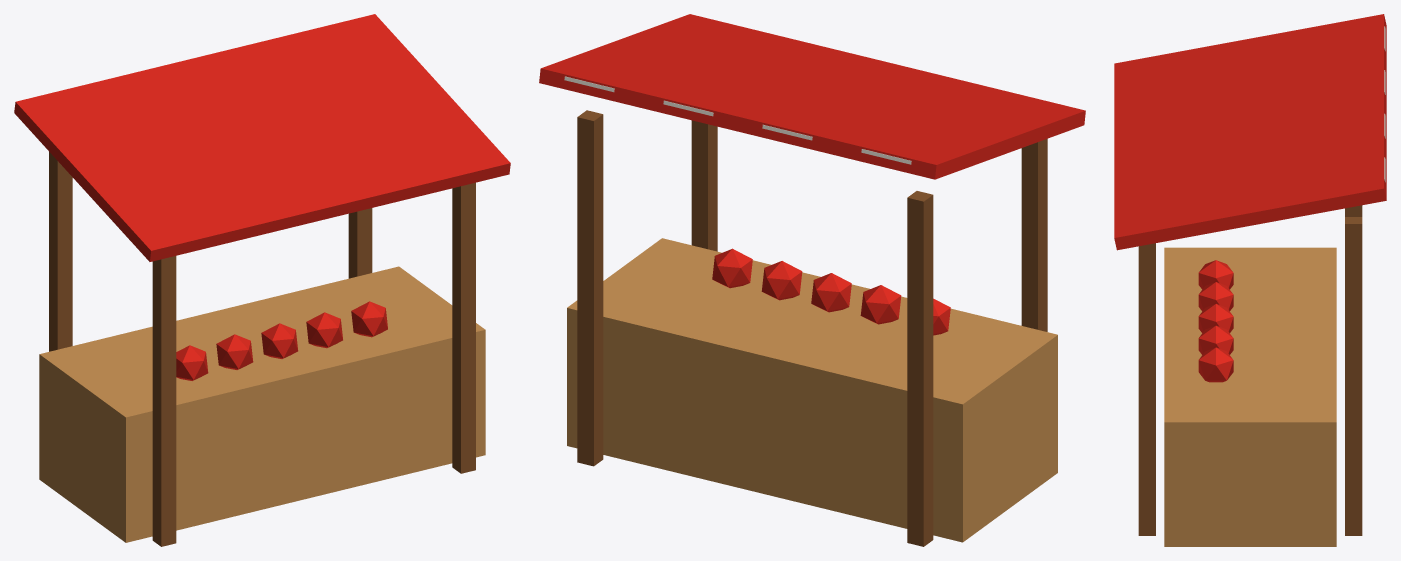
Rendered from town_market_stall.glb.
3 renders of one model, left to right at view 1: azimuth 30°, elevation 25°; view 2: azimuth 150°, elevation 25°; view 3: azimuth 270°, elevation 25°, orthographic. The views are drawn at different scales.
Visible parts, largest first — view 1: market_stall; view 2: market_stall; view 3: market_stall.
Part boxes in pixels (x1,y1,x2,y2): market_stall: [14, 14, 510, 546]; market_stall: [539, 14, 1085, 546]; market_stall: [1114, 14, 1386, 546].
Size of the model in its own units: 2.4 by 2.3 by 1.58.
